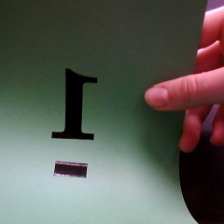green1: (45, 66, 105, 180)
